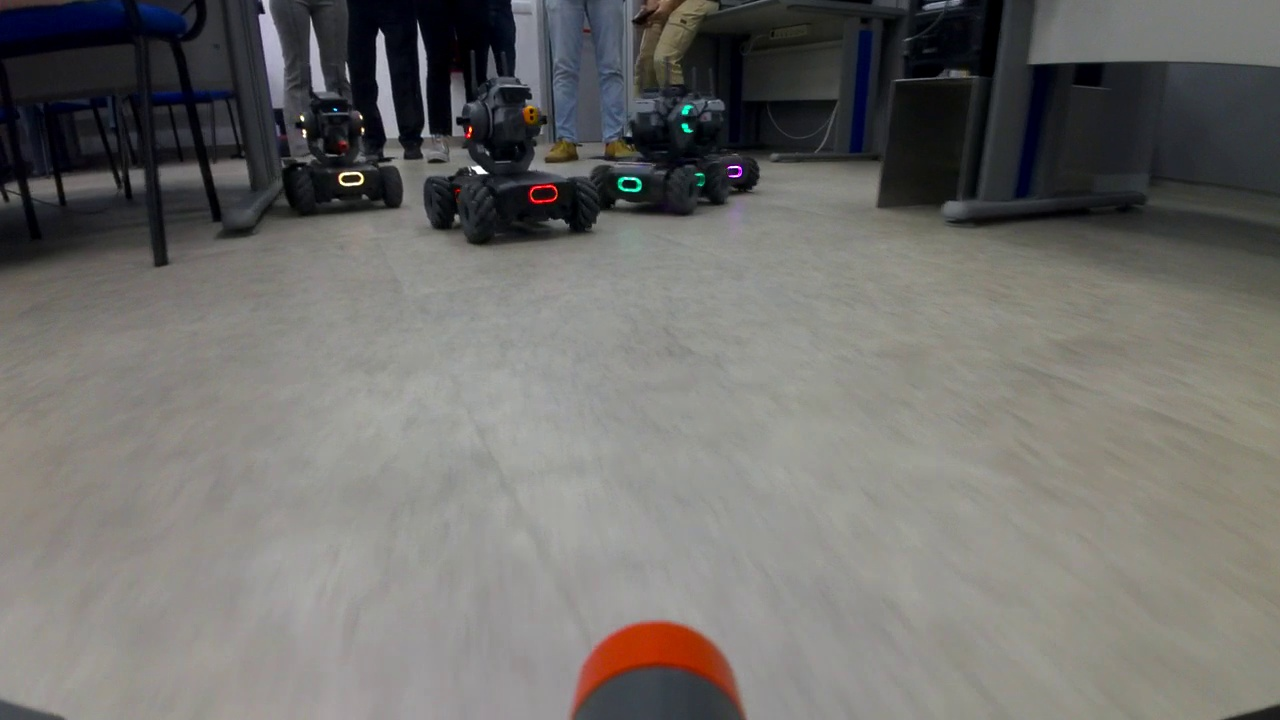robot: (422, 78, 601, 247), (595, 88, 730, 214), (279, 89, 405, 217), (701, 97, 764, 196)
